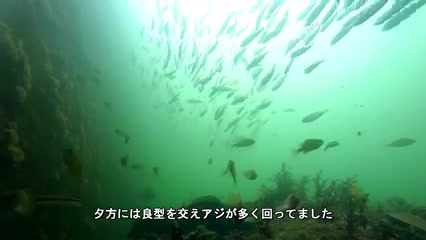smallfish: (378, 132, 418, 156), (290, 136, 325, 158), (225, 134, 260, 155)
